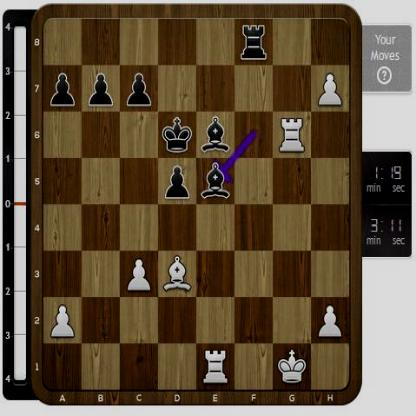black-bishop: (199, 112, 232, 157), (200, 159, 233, 202)
black-king: (161, 112, 194, 157)
black-pawn: (47, 66, 79, 110), (86, 69, 118, 107), (164, 161, 192, 201), (125, 70, 155, 107)
black-rook: (236, 22, 269, 62)
white-bishop: (162, 250, 194, 295)
white-king: (274, 345, 310, 387)
white-pawn: (317, 66, 345, 110), (316, 300, 346, 340), (126, 251, 153, 295), (50, 298, 76, 341)
white-rook: (200, 345, 232, 387), (278, 111, 308, 155)
